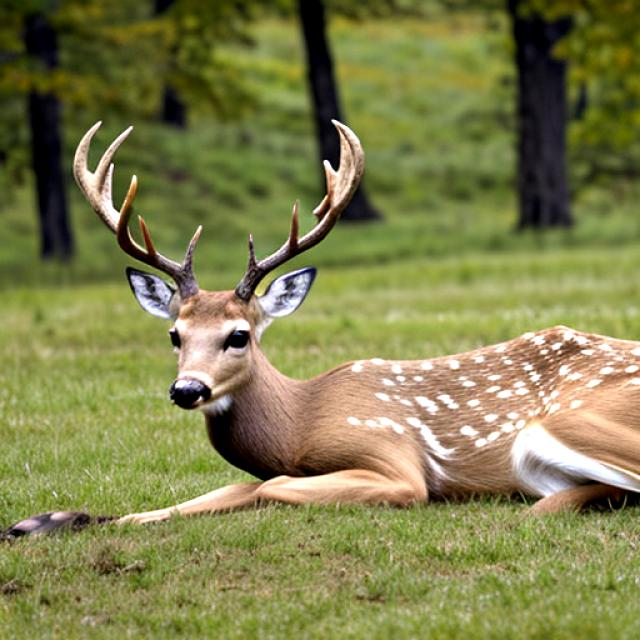deer: (35, 144, 640, 595)
